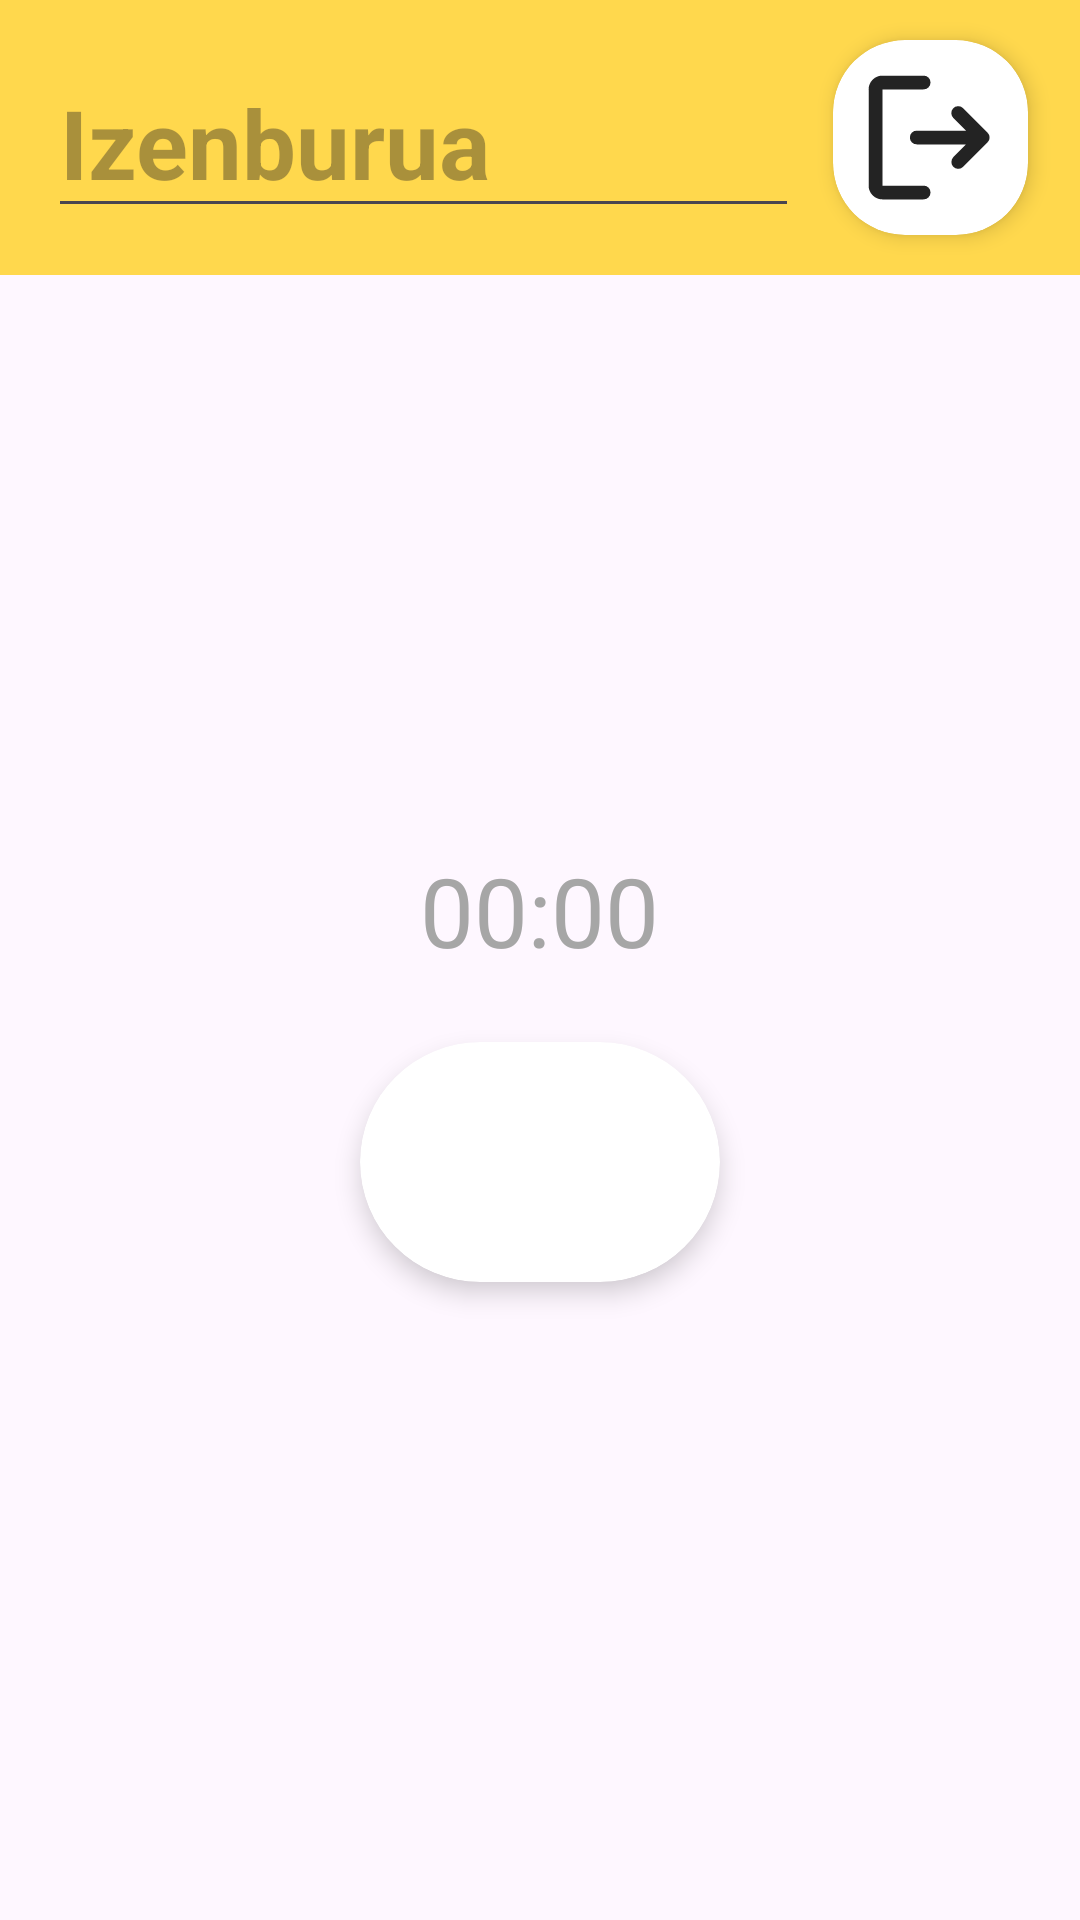

Icons on this 1080 x 1920 Android screen, each with the point to tap as point (x, y):
exit: point (930, 137)
